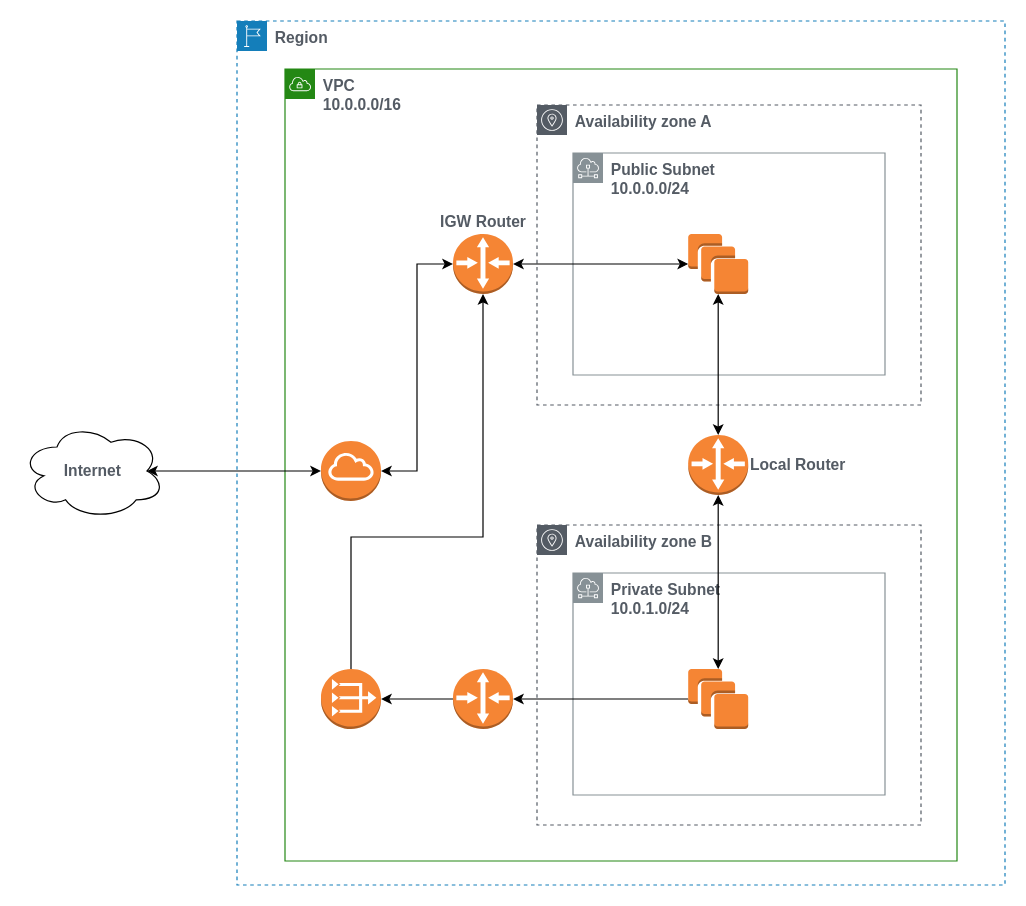
This 1026x906 diagram has some shape labels left out. The shapes that lost their labels are listed below. From the top down, each one's centre as x and y in pixels, then its label:
At point (717, 263): "Instances PrivateIP/PublicIP".
At point (350, 470): "IGW".
At point (350, 698): "NAT".
At point (482, 698): "Nat Router".
At point (717, 698): "Instances PrivateIP".
